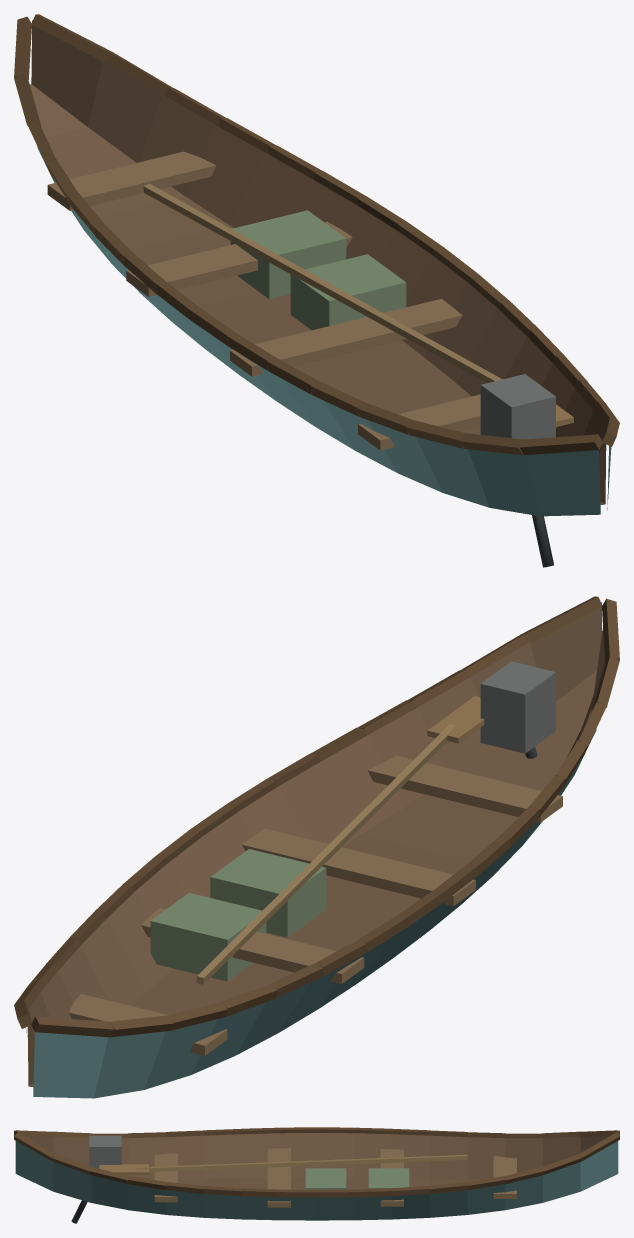
File: fishing_skiff.glb
The picture shows the model from 3 angles, top to bottom: view 1: azimuth 30°, elevation 25°; view 2: azimuth 150°, elevation 25°; view 3: azimuth 270°, elevation 25°; orthographic projection. The views are drawn at different scales.
Parts seen in each view (by area): view 1: fishing_skiff; view 2: fishing_skiff; view 3: fishing_skiff.
Boxes of the visible parts, x1,y1,x2,y2 form: fishing_skiff: (14, 14, 619, 567); fishing_skiff: (14, 596, 619, 1098); fishing_skiff: (14, 1127, 619, 1223).
Bounding box in the file's own units: 1.72 × 1.13 × 6.74.
